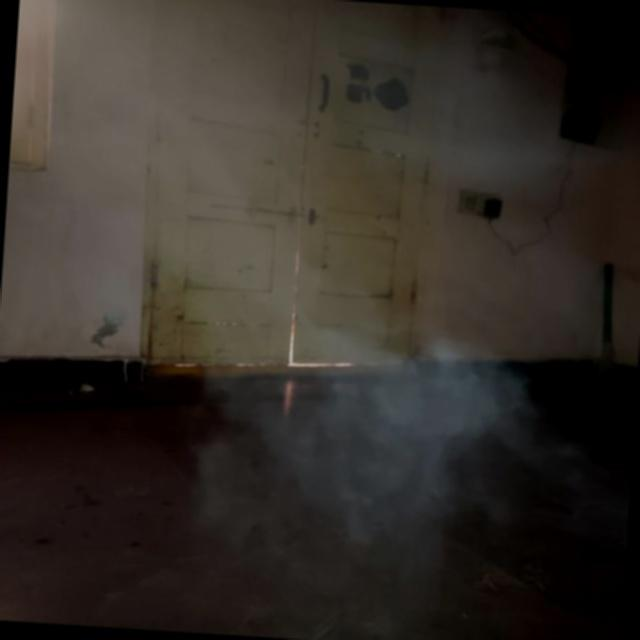smoke: (249, 278, 532, 528)
